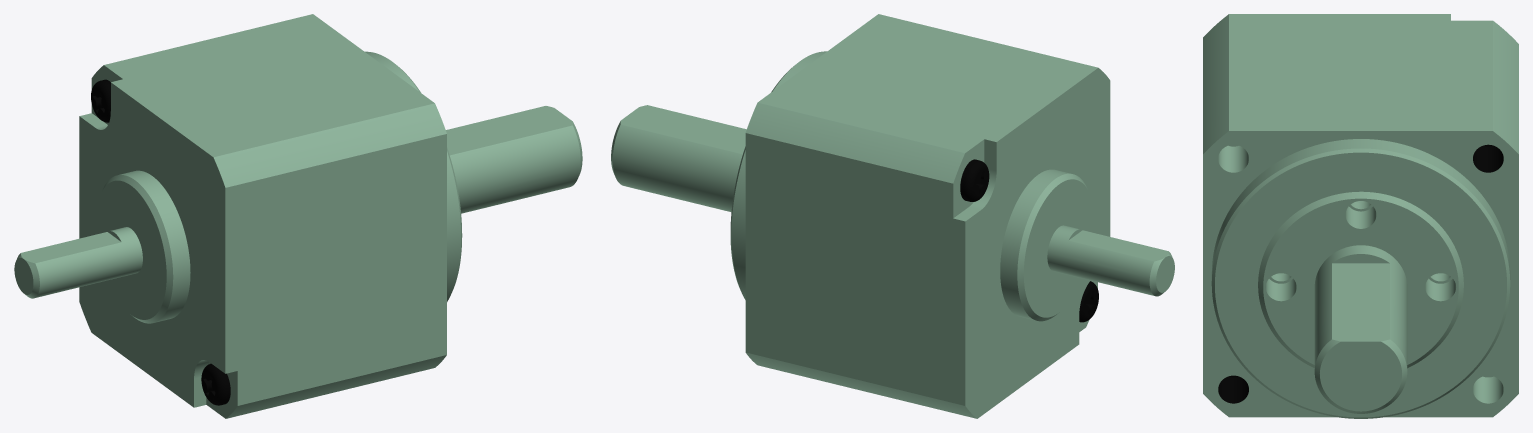
Rendered from Main_CSF-8-30-1U_v2.dae.
3 views of the same model, side by side, from view 1: azimuth 30°, elevation 25°; view 2: azimuth 150°, elevation 25°; view 3: azimuth 270°, elevation 25° (orthographic). The views are drawn at different scales.
Visible parts, largest first — view 1: Main_CSF-8-30-1U_v2; view 2: Main_CSF-8-30-1U_v2; view 3: Main_CSF-8-30-1U_v2.
Boxes of the visible parts, x1,y1,x2,y2 form: Main_CSF-8-30-1U_v2: (14,14,582,418); Main_CSF-8-30-1U_v2: (611,14,1174,418); Main_CSF-8-30-1U_v2: (1203,14,1518,418).
Size of the model in its own units: 0.0655 by 0.0307 by 0.0307.
